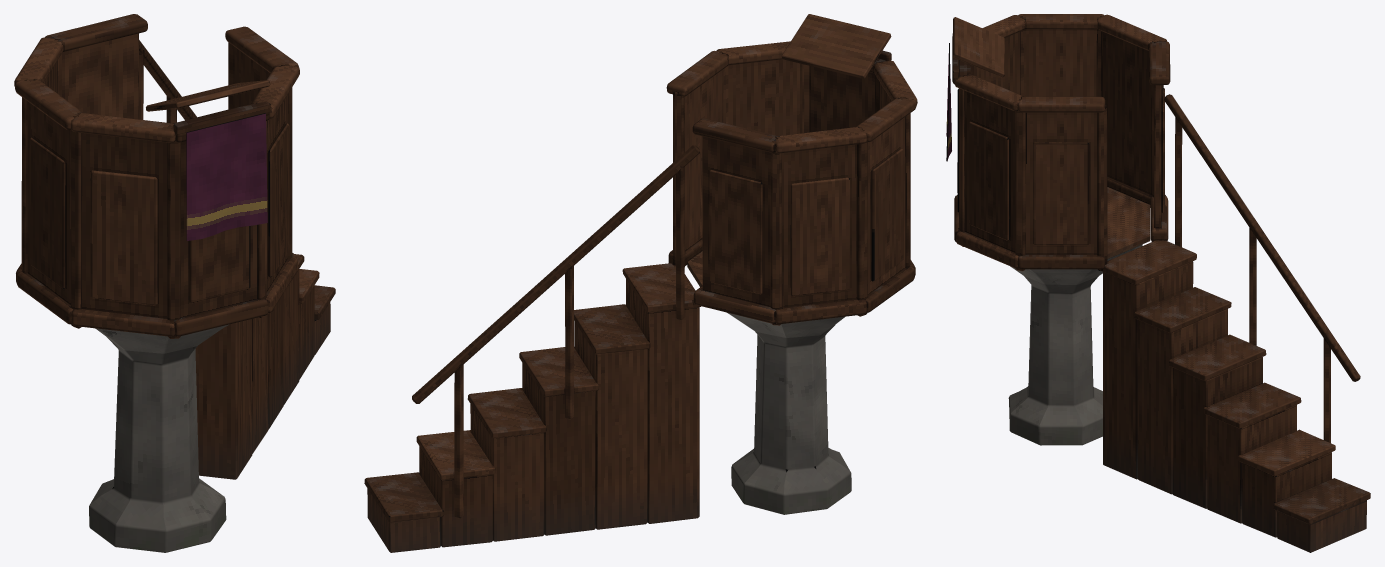
The model's file is pulpit.glb.
3 renders of one model, left to right at view 1: azimuth 30°, elevation 25°; view 2: azimuth 150°, elevation 25°; view 3: azimuth 270°, elevation 25°, orthographic. The views are drawn at different scales.
Parts seen in each view (by area): view 1: Pulpit; view 2: Pulpit; view 3: Pulpit.
Boxes of the visible parts, left/top/right/bottom form: Pulpit: left=14, top=14, right=335, bottom=552; Pulpit: left=364, top=14, right=917, bottom=552; Pulpit: left=946, top=14, right=1370, bottom=552.
Size of the model in its own units: 2.38 by 2.45 by 2.42.
Materials: 1 (1 with a texture image).
